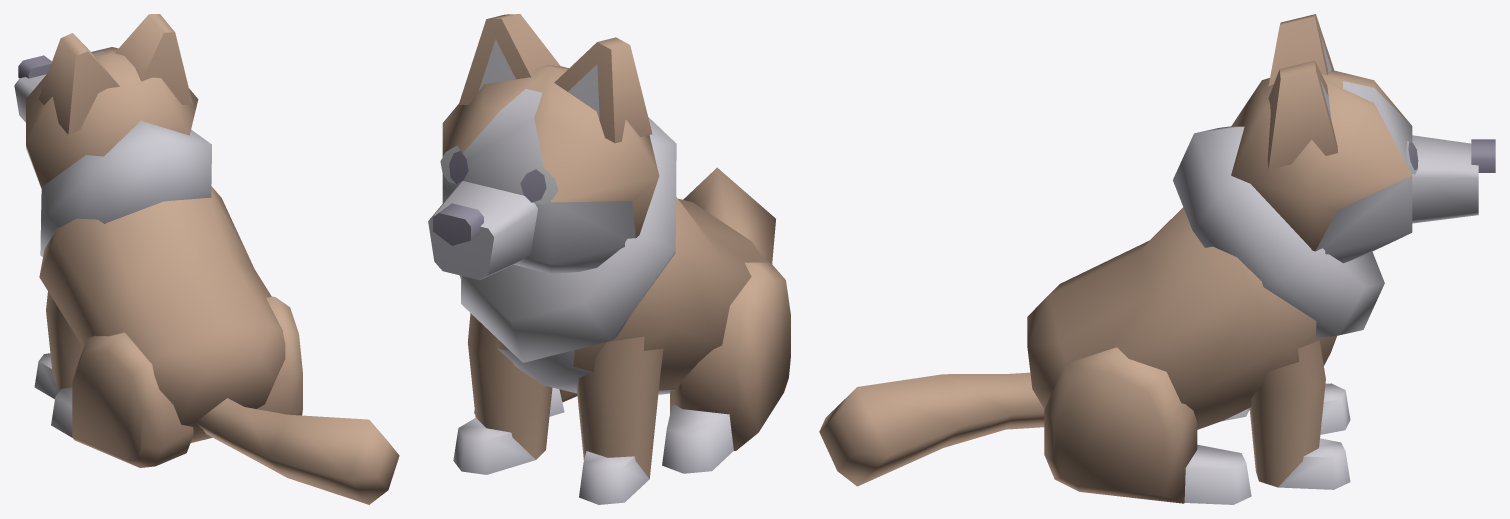
The model's file is dog-corgi-sitting.glb.
The picture shows the model from 3 angles, left to right: view 1: azimuth 30°, elevation 25°; view 2: azimuth 150°, elevation 25°; view 3: azimuth 270°, elevation 25°; orthographic projection. The views are drawn at different scales.
Parts seen in each view (by area): view 1: dog-corgi-sitting; view 2: dog-corgi-sitting; view 3: dog-corgi-sitting.
Boxes of the visible parts, x1,y1,x2,y2 form: dog-corgi-sitting: [14, 14, 399, 504]; dog-corgi-sitting: [428, 14, 790, 504]; dog-corgi-sitting: [819, 14, 1495, 504].
Bounding box in the file's own units: 0.2257 × 0.3713 × 0.5522.
